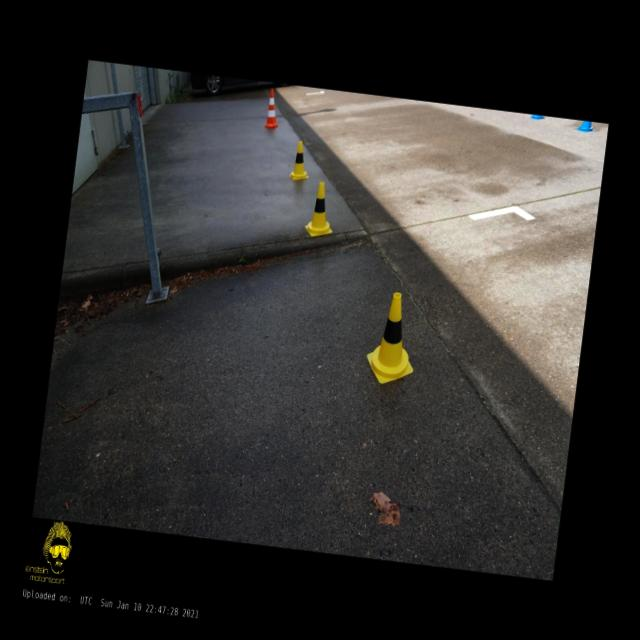large_orange_cone: (264, 86, 282, 128)
yellow_cone: (363, 290, 422, 388), (304, 180, 338, 238), (289, 140, 312, 181)
